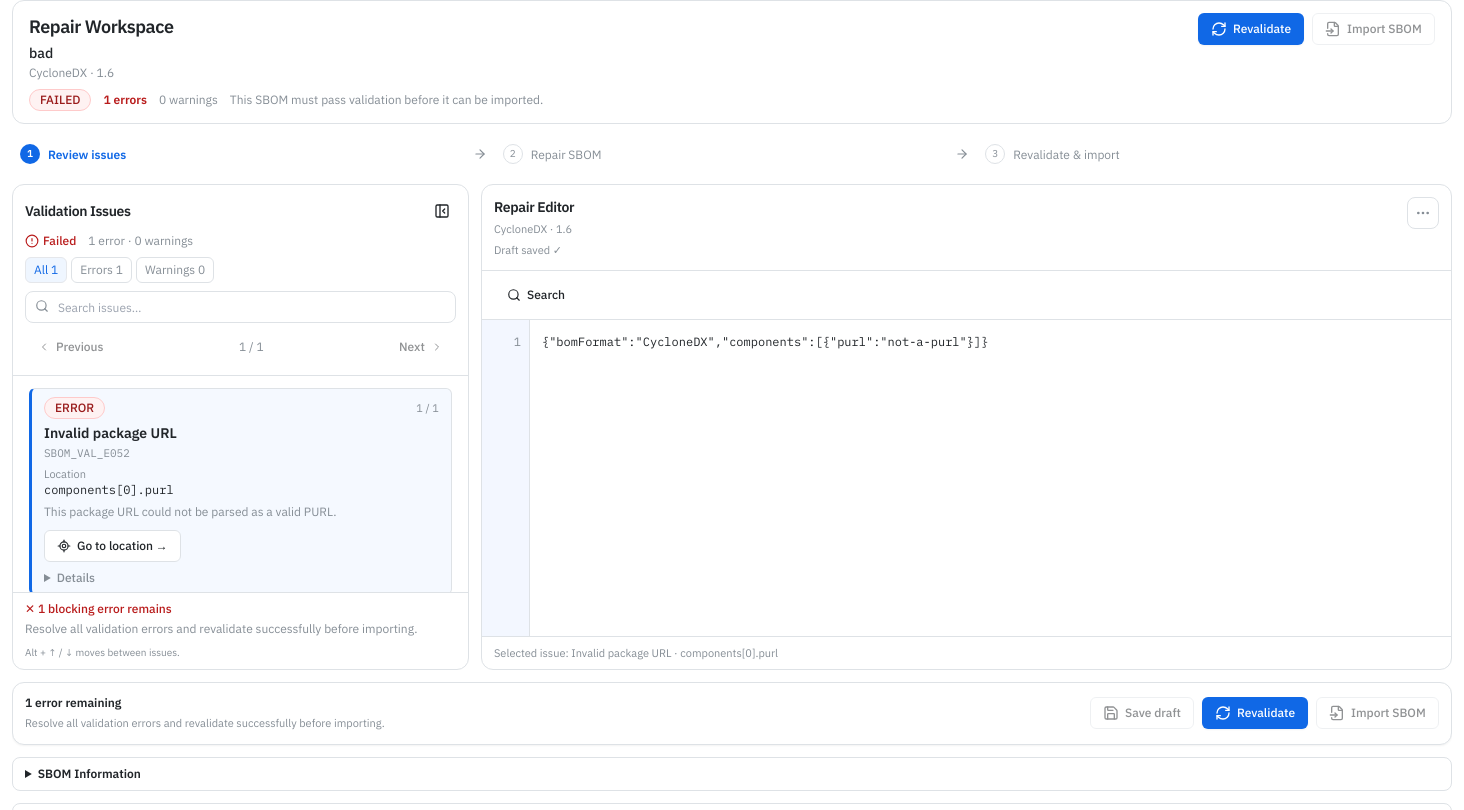
Repair Workspace workflow › disables both revalidate controls while a validation request is pending
The image size is (1464, 810).
Click the button "Revalidate" in the row of "1 error remaining" at point(1255, 713), box [1202,697,1308,729]
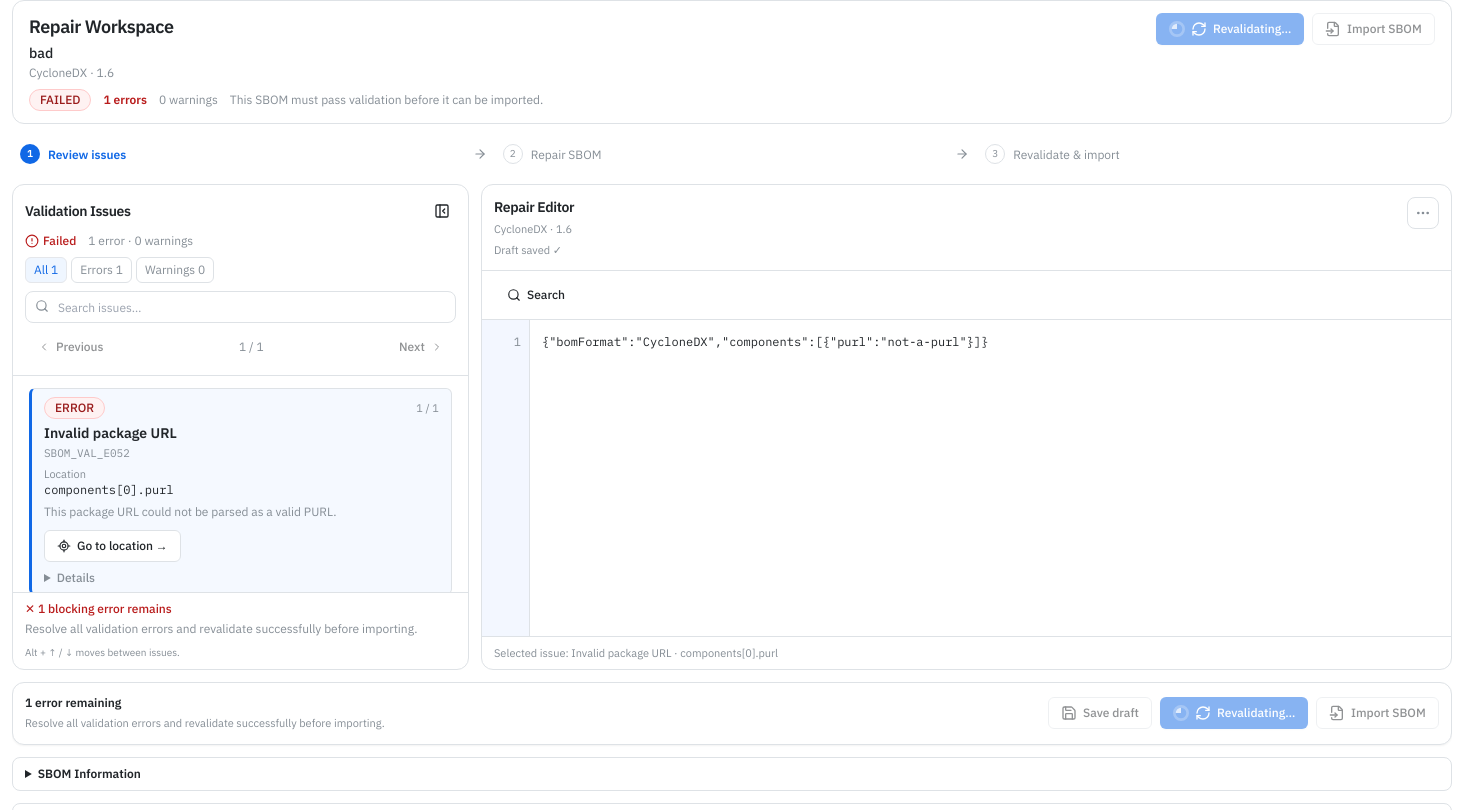
Result: the button with aria-label "Revalidate SBOM from header" is disabled
Click the button with aria-label "Revalidate SBOM from header" at point(1230, 29), box [1156,13,1304,45]
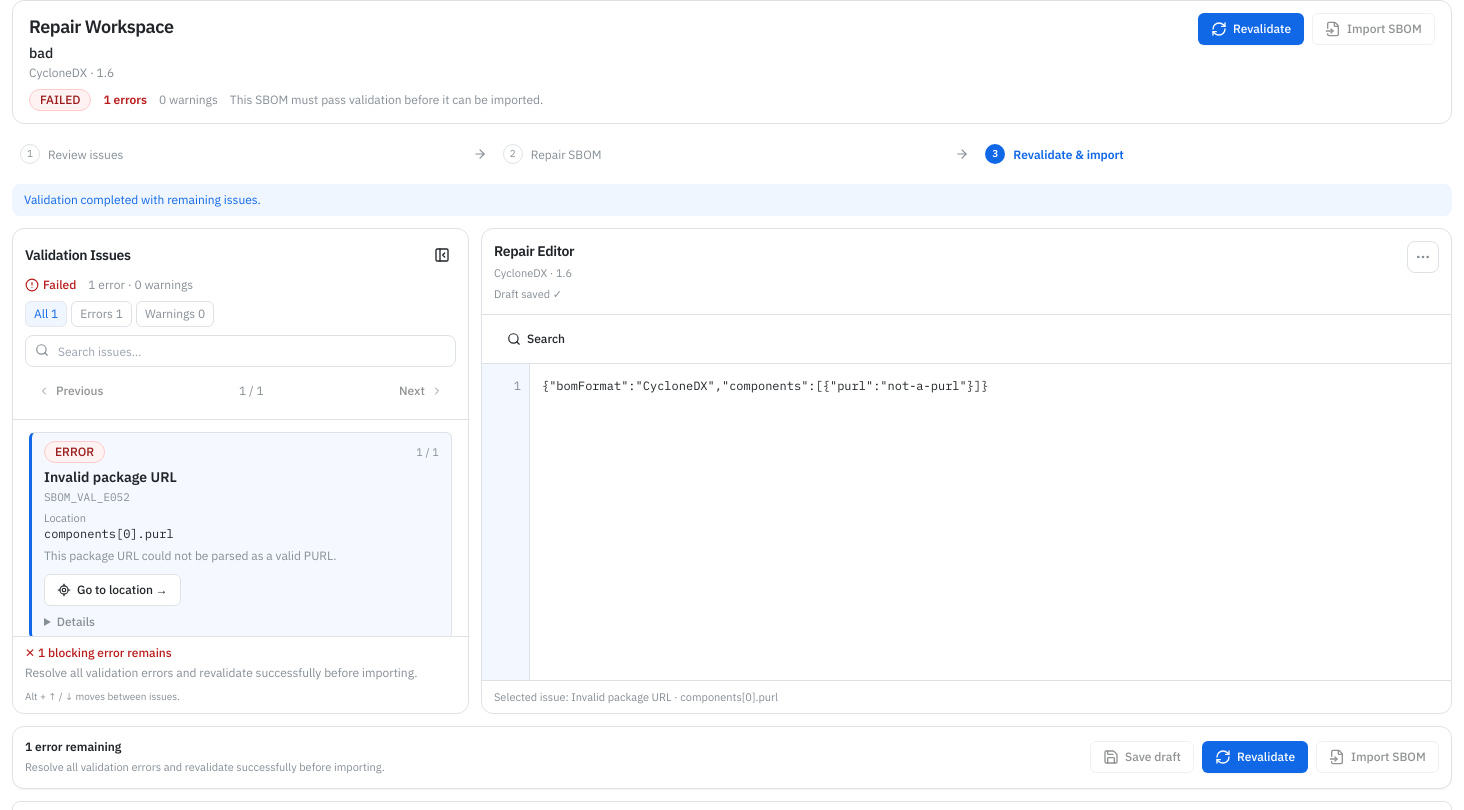
Result: the button "Revalidate" in the row of "1 error remaining" is enabled at [1202,741,1308,773]
